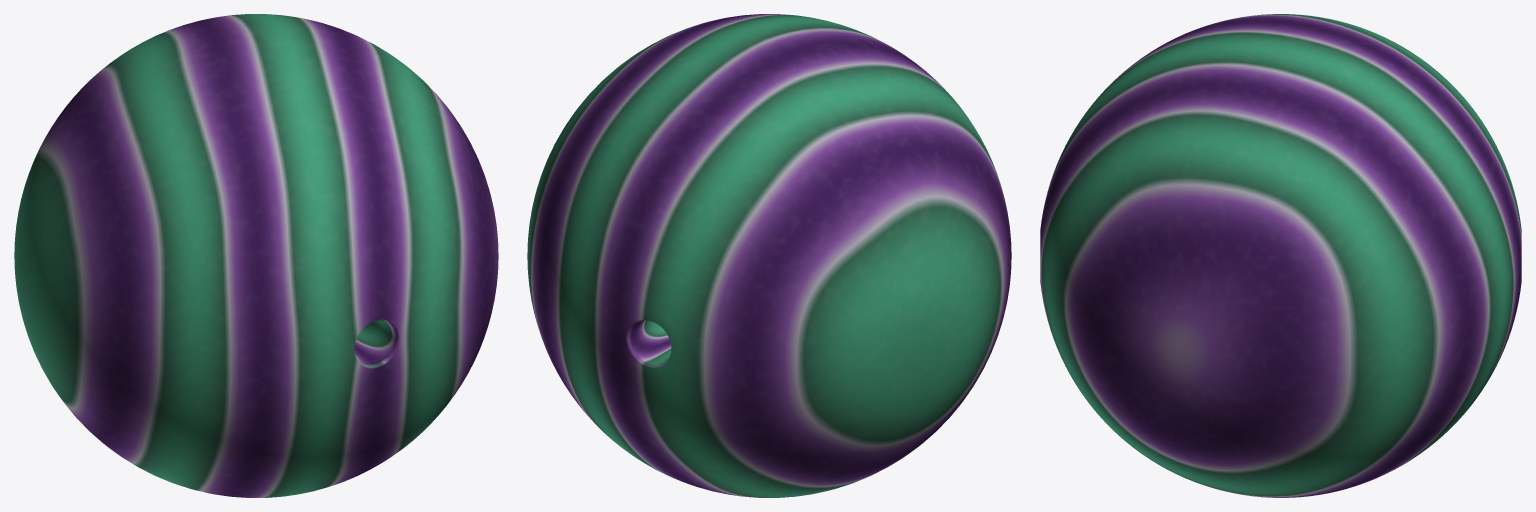
Rendered from fluorite-10mm.glb.
3 renders of one model, left to right at view 1: azimuth 30°, elevation 25°; view 2: azimuth 150°, elevation 25°; view 3: azimuth 270°, elevation 25°, orthographic.
Parts seen in each view (by area): view 1: fluorite.001; view 2: fluorite.001; view 3: fluorite.001.
Boxes of the visible parts, x1,y1,x2,y2 form: fluorite.001: (14, 14, 498, 497); fluorite.001: (527, 14, 1011, 497); fluorite.001: (1040, 14, 1521, 497).
Size of the model in its own units: 0.01 by 0.01 by 0.00994.
Materials: 2 (1 with a texture image).
